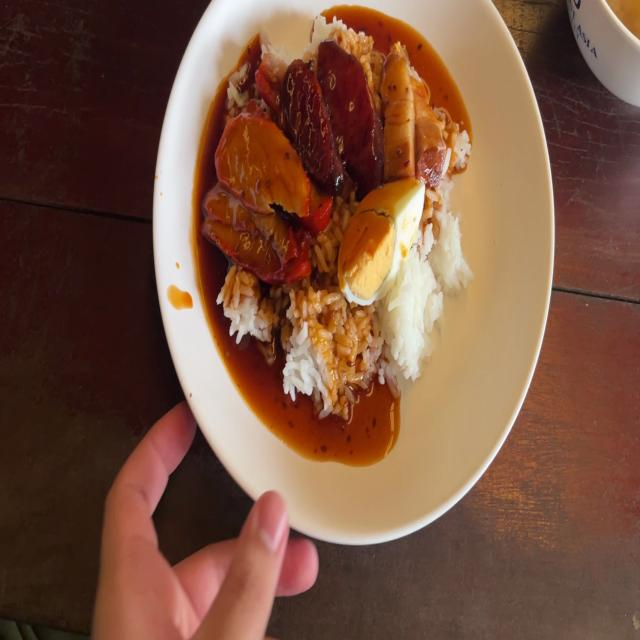01boiled_egg: (339, 177, 424, 306)
01chainese_sausage: (292, 42, 379, 182), (381, 37, 450, 180)
01red_pork: (208, 114, 303, 274)
01red_pork_and_crispy_pork: (207, 9, 471, 407)
01rice: (285, 296, 366, 392), (388, 256, 432, 383), (429, 193, 469, 287), (218, 279, 269, 334), (451, 108, 471, 170)
